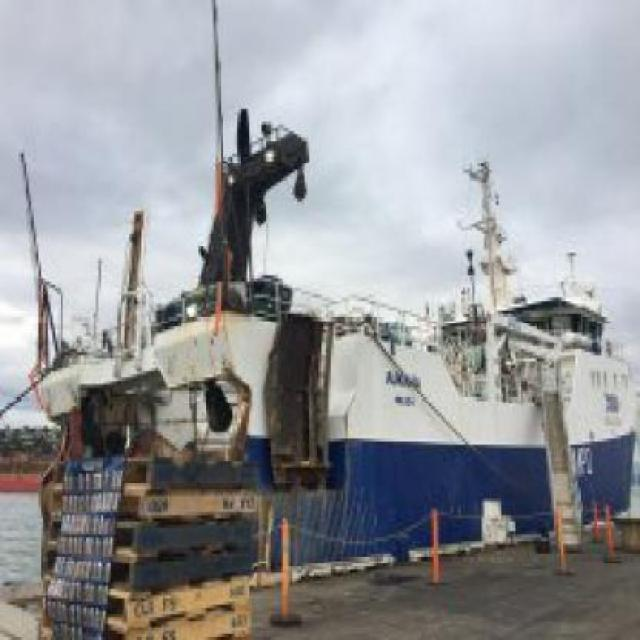Ship: (24, 164, 640, 591)
